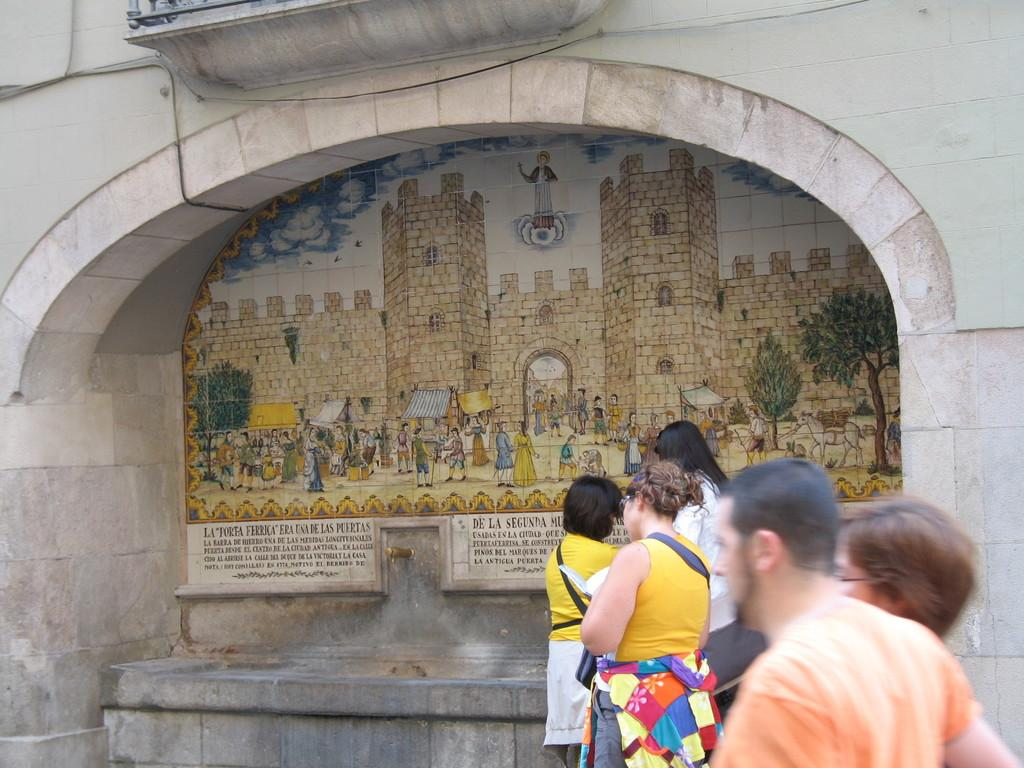Sem Máscara: (710, 495, 751, 625), (825, 529, 889, 609), (617, 489, 637, 536)
